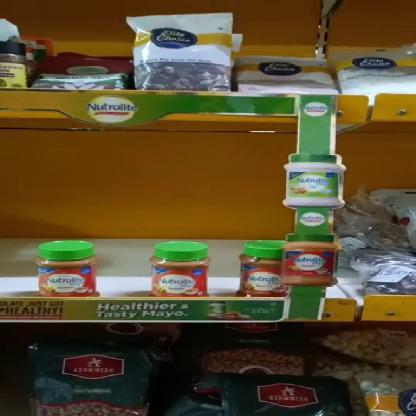Nutralite TANDOORI MAYO 300g-275g-25g-: (33, 243, 96, 304), (150, 244, 213, 300)
